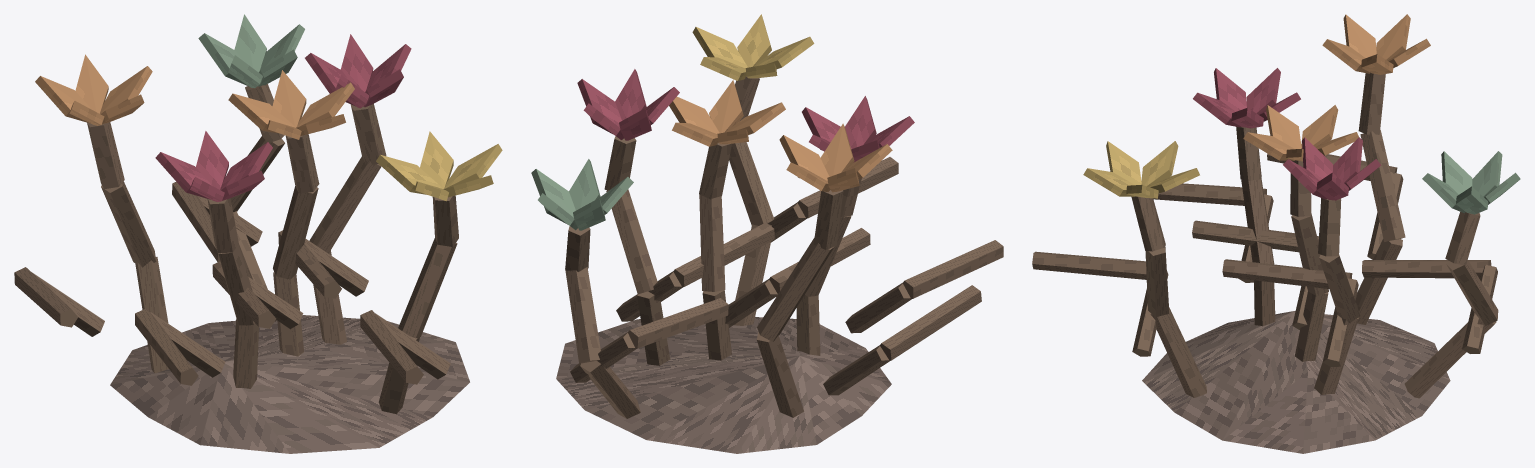
Rendered from f_nm_nether_patchwork.glb.
3 views of the same model, side by side, from view 1: azimuth 30°, elevation 25°; view 2: azimuth 150°, elevation 25°; view 3: azimuth 270°, elevation 25° (orthographic). The views are drawn at different scales.
Parts seen in each view (by area): view 1: block_root-substrate, block_folded-petal (×25), block_segmented-plant-stem-2 (×6), block_mixed-weedy-runner-2 (×6), block_segmented-plant-stem-1 (×6), block_segmented-plant-stem-3 (×6), block_mixed-weedy-runner-1 (×6); view 2: block_root-substrate, block_folded-petal (×24), block_segmented-plant-stem-2 (×6), block_mixed-weedy-runner-2 (×6), block_segmented-plant-stem-1 (×6), block_mixed-weedy-runner-1 (×6), block_segmented-plant-stem-3 (×5); view 3: block_root-substrate, block_folded-petal (×23), block_segmented-plant-stem-2 (×6), block_mixed-weedy-runner-2 (×5), block_segmented-plant-stem-1 (×6), block_segmented-plant-stem-3 (×6), block_mixed-weedy-runner-1 (×4).
Boxes of the visible parts, x1,y1,x2,y2 form: block_root-substrate: (110,315,469,453); block_folded-petal (×25): (35,14,502,200); block_segmented-plant-stem-2 (×6): (101,136,457,338); block_mixed-weedy-runner-2 (×6): (14,182,423,385); block_segmented-plant-stem-1 (×6): (135,211,419,414); block_segmented-plant-stem-3 (×6): (87,84,458,253); block_mixed-weedy-runner-1 (×6): (32,196,450,379); block_root-substrate: (556,317,891,453); block_folded-petal (×24): (531,14,914,230); block_segmented-plant-stem-2 (×6): (565,142,851,363); block_mixed-weedy-runner-2 (×6): (627,157,1003,360); block_segmented-plant-stem-1 (×6): (580,224,820,418); block_mixed-weedy-runner-1 (×6): (570,202,911,395); block_segmented-plant-stem-3 (×5): (565,76,843,271); block_root-substrate: (1142,311,1450,453); block_folded-petal (×23): (1083,14,1502,214); block_segmented-plant-stem-2 (×6): (1145,130,1498,325); block_mixed-weedy-runner-2 (×5): (1032,183,1491,288); block_segmented-plant-stem-1 (×6): (1150,239,1496,398); block_segmented-plant-stem-3 (×6): (1131,72,1480,265); block_mixed-weedy-runner-1 (×4): (1132,172,1497,366).
Bounding box in the file's own units: 0.7809 × 0.5649 × 0.8833.
1 material, 1 textured.
